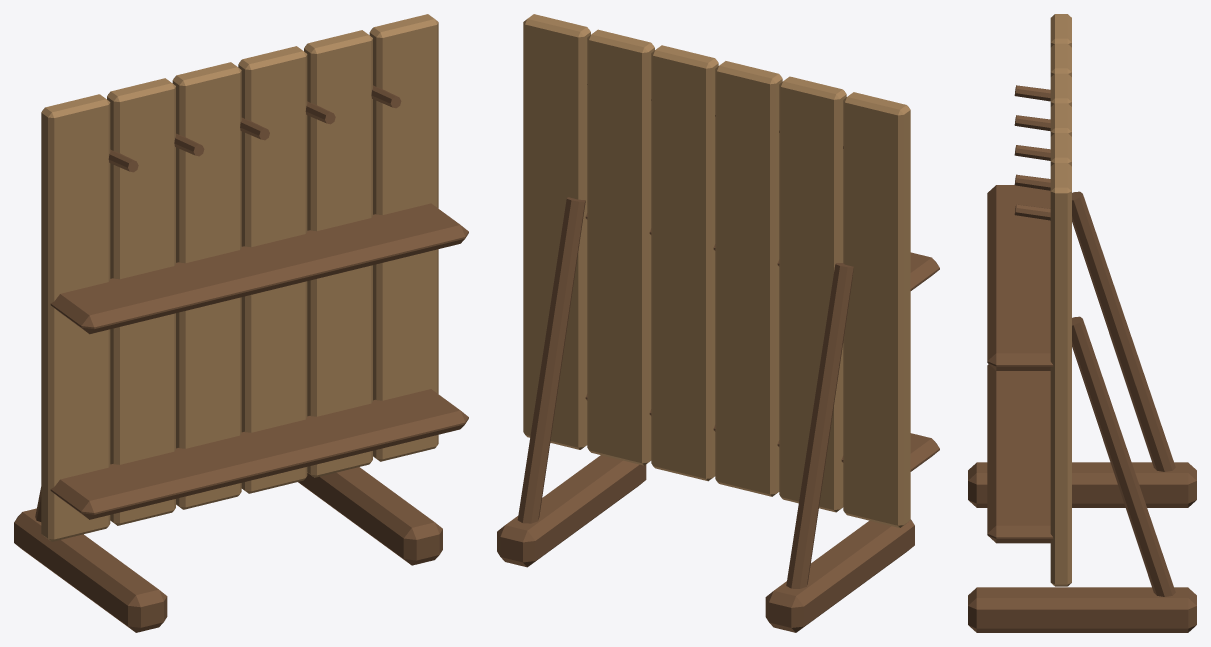
3 views of the same model, side by side, from view 1: azimuth 30°, elevation 25°; view 2: azimuth 150°, elevation 25°; view 3: azimuth 270°, elevation 25° (orthographic). The views are drawn at different scales.
Visible parts, largest first — view 1: BA-0017 batched; view 2: BA-0017 batched; view 3: BA-0017 batched.
Part boxes in pixels (x1,y1,x2,y2): BA-0017 batched: (14,14,468,632); BA-0017 batched: (497,14,939,632); BA-0017 batched: (968,14,1196,632).
Bounding box in the file's own units: 1.19 × 1.45 × 0.65.
